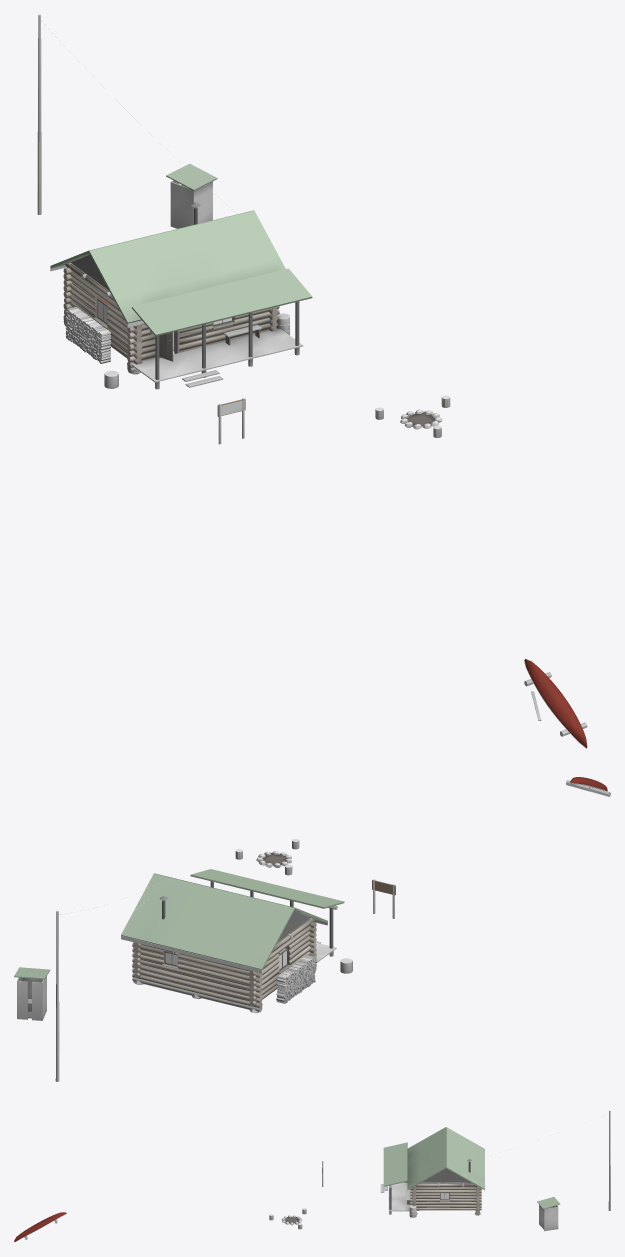
The model's file is ranger_cabin.glb.
The picture shows the model from 3 angles, top to bottom: view 1: azimuth 30°, elevation 25°; view 2: azimuth 150°, elevation 25°; view 3: azimuth 270°, elevation 25°; orthographic projection. The views are drawn at different scales.
Parts seen in each view (by area): view 1: main, detail; view 2: main, detail; view 3: main, detail.
Part boxes in pixels (x1,y1,x2,y2): main: [37, 14, 587, 748]; detail: [41, 21, 541, 720]; main: [14, 777, 610, 1081]; detail: [60, 791, 610, 973]; main: [14, 1110, 610, 1241]; detail: [269, 1191, 416, 1229].
Bounding box in the file's own units: 11.86 × 12.94 × 48.84.
